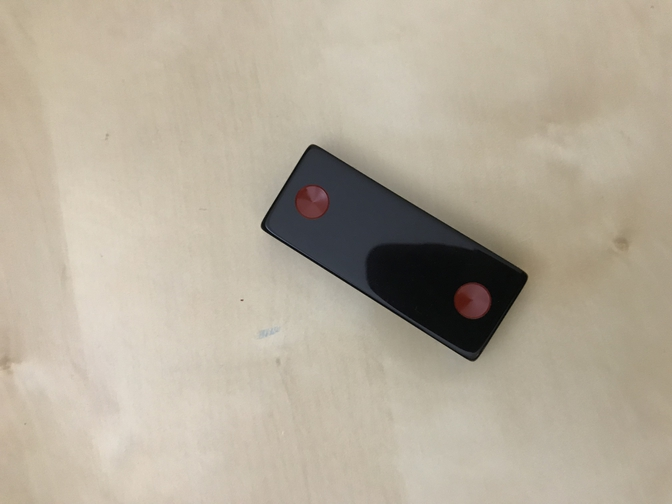earth: (259, 142, 528, 363)
